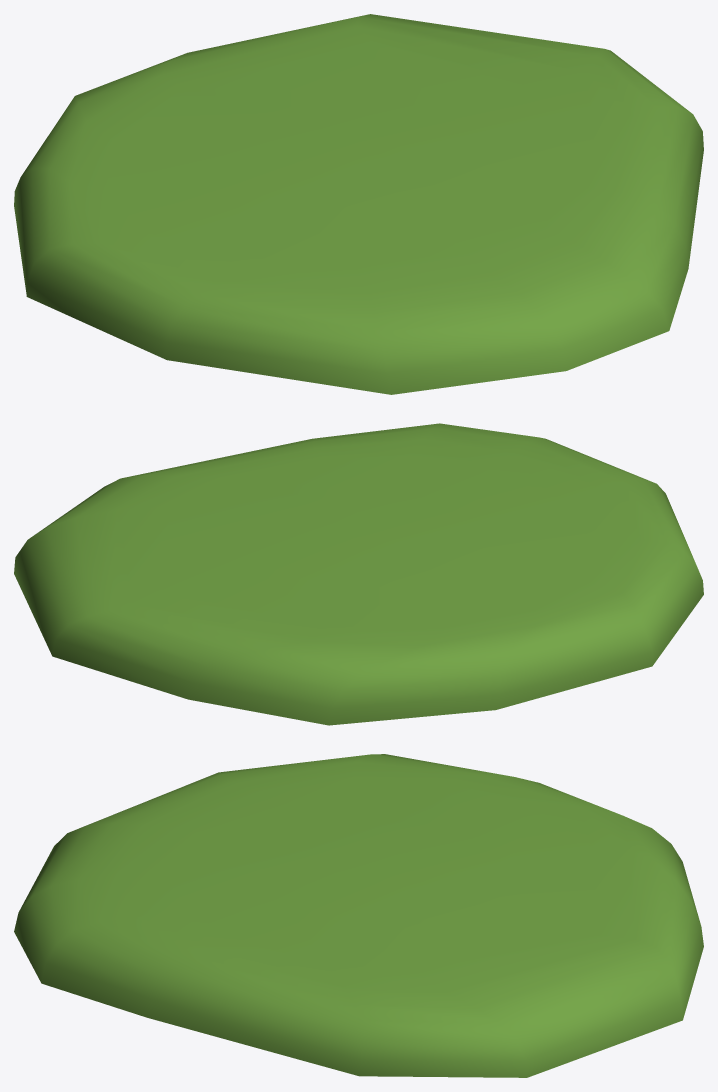
The model's file is grass_01.fbx.
3 views of the same model, one above another, from view 1: azimuth 30°, elevation 25°; view 2: azimuth 150°, elevation 25°; view 3: azimuth 270°, elevation 25° (orthographic). The views are drawn at different scales.
Visible parts, largest first — view 1: Sphere; view 2: Sphere; view 3: Sphere.
Boxes of the visible parts, <box> form: Sphere: <box>14,14,703,394</box>; Sphere: <box>14,423,703,725</box>; Sphere: <box>14,754,703,1077</box>.
Size of the model in its own units: 11376 by 1093 by 11427.
